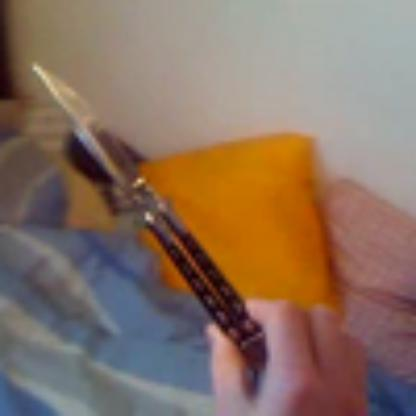knives: (16, 46, 278, 387)
